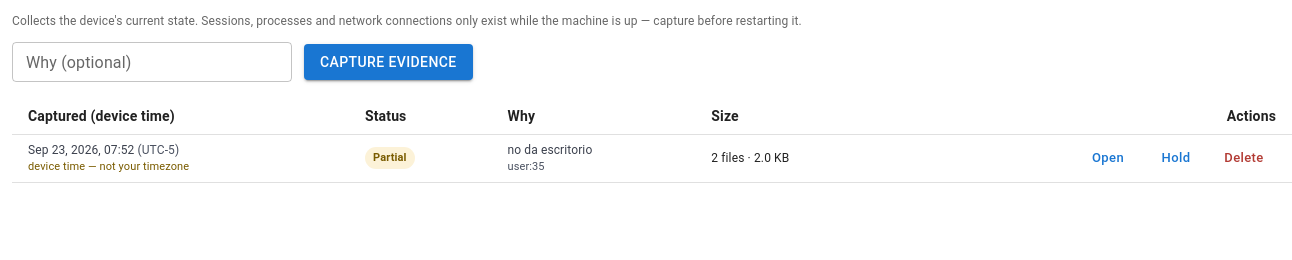
Test case: EvidenceTab — acciones › 🔴 un equipo desconectado se dice con las palabras del backend, no «error»
What coordinates should you click on to do the following:
click the button "Capture evidence"
I would click on:
 (388, 62)
Its box is [304,44,473,80].
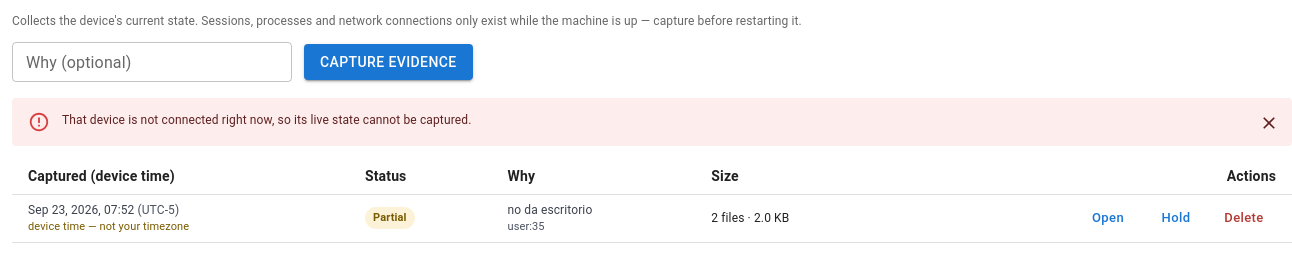
Expected: the text "not connected right now" is shown, [62,113,471,127]
